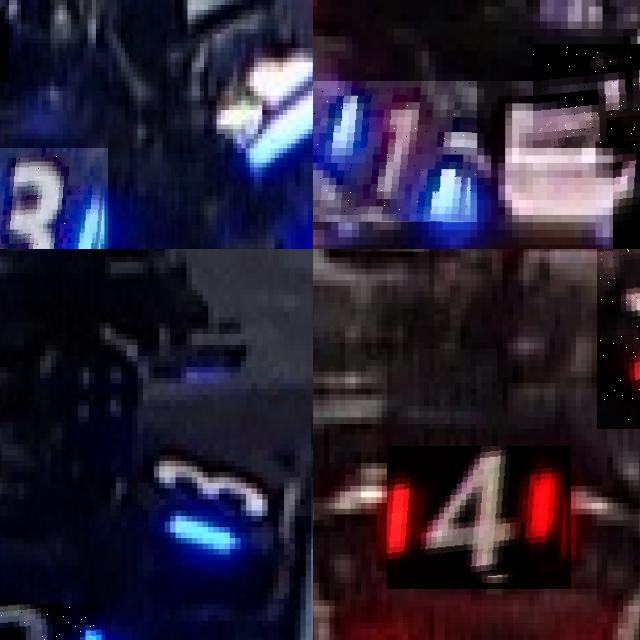B1: (313, 80, 477, 222), (532, 44, 640, 148)
B3: (0, 148, 108, 249)
R4: (387, 446, 571, 589), (596, 249, 640, 428)
